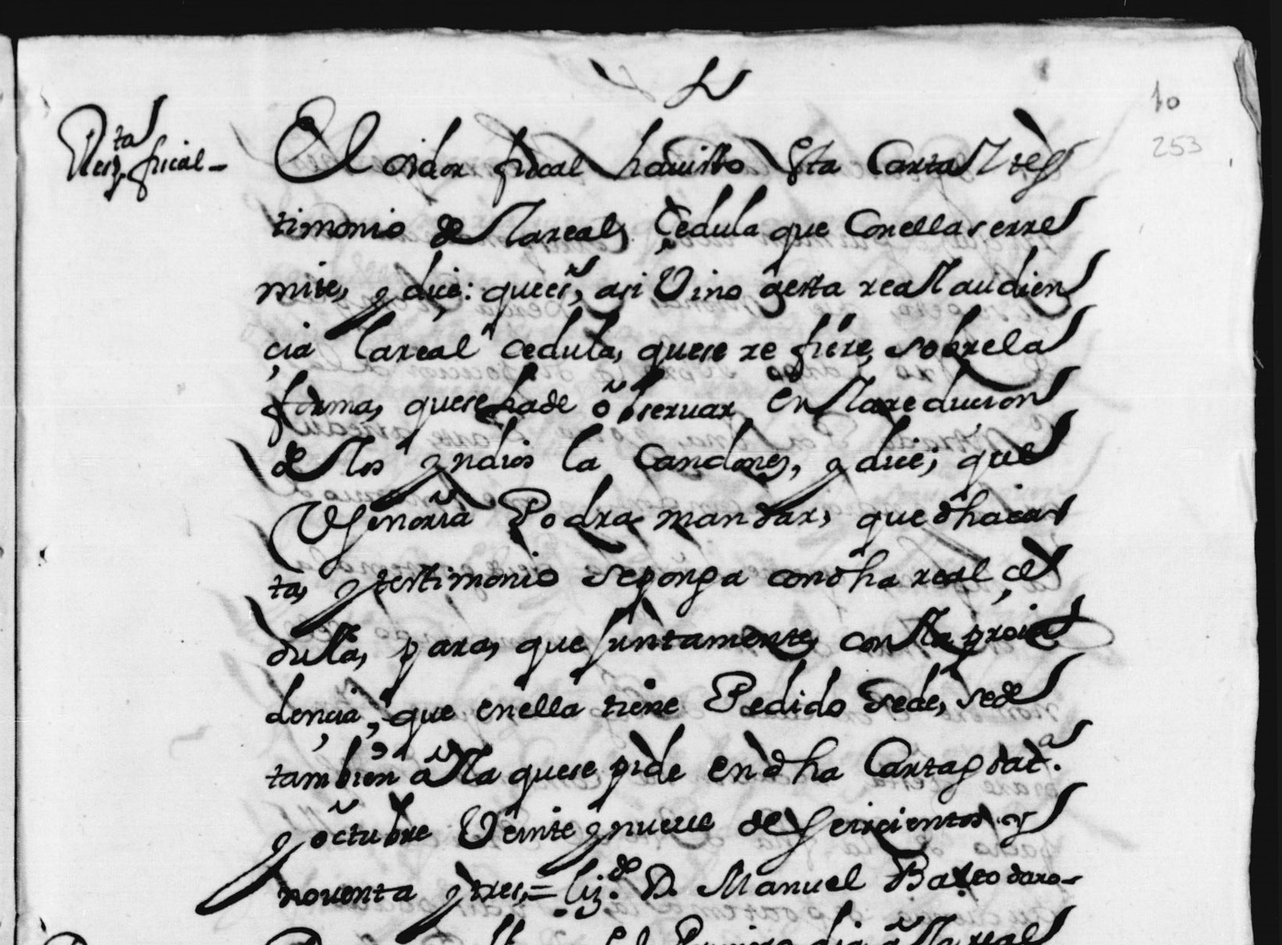lacandon: (562, 417, 790, 482)
